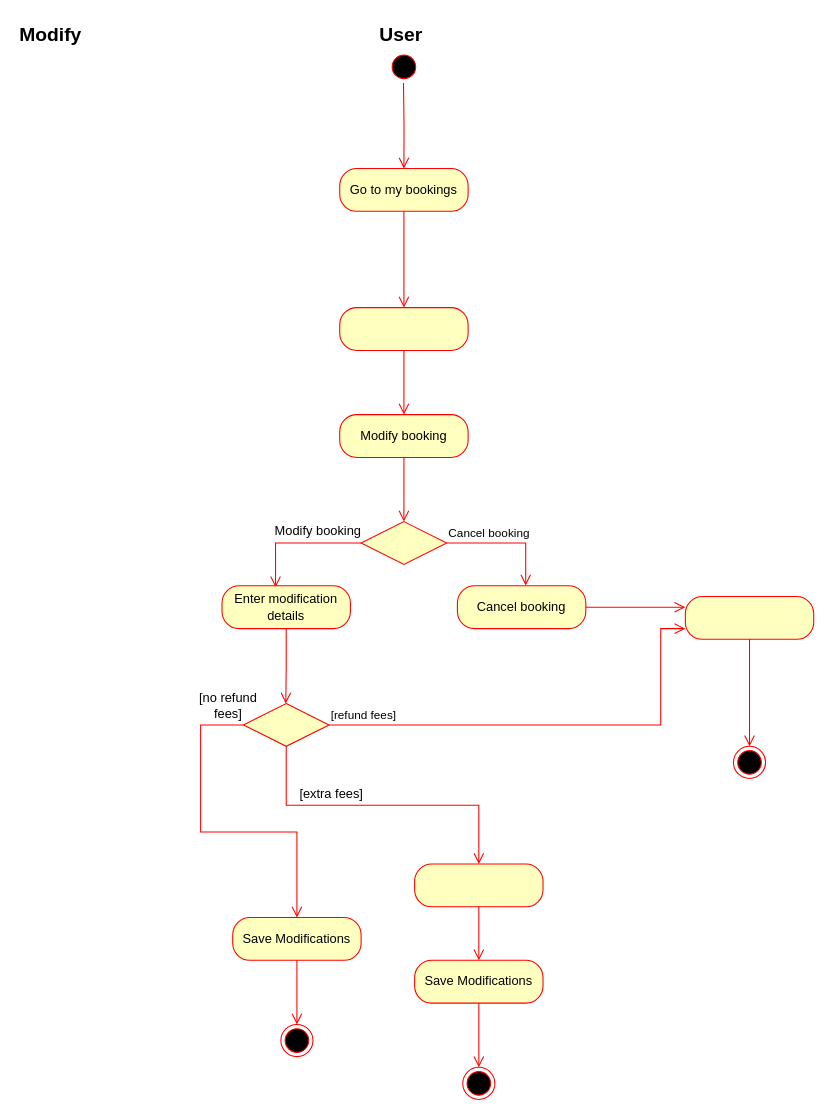
This 832x1118 diagram has some shape labels left out. Each missing label, with the box of its shape:
Choose booking: (339, 307, 468, 350)
Pay: (414, 863, 543, 907)
Refund booking payment: (684, 595, 814, 639)
